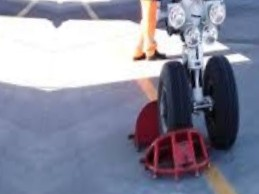chock: (133, 122, 216, 187), (124, 98, 167, 155)
wheel: (193, 52, 248, 153), (148, 58, 201, 138)
